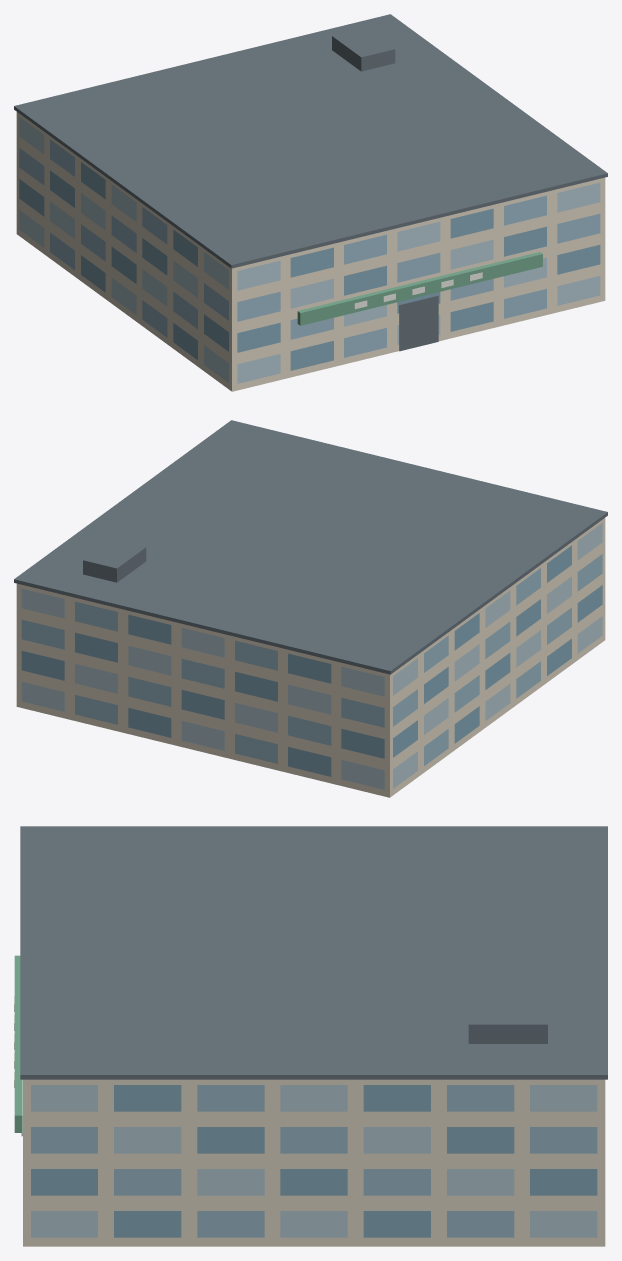
Rendered from korea-building-5.glb.
The picture shows the model from 3 angles, top to bottom: view 1: azimuth 30°, elevation 25°; view 2: azimuth 150°, elevation 25°; view 3: azimuth 270°, elevation 25°; orthographic projection. The views are drawn at different scales.
Bounding box in the file's own units: 11.1 × 4 × 11.22.
